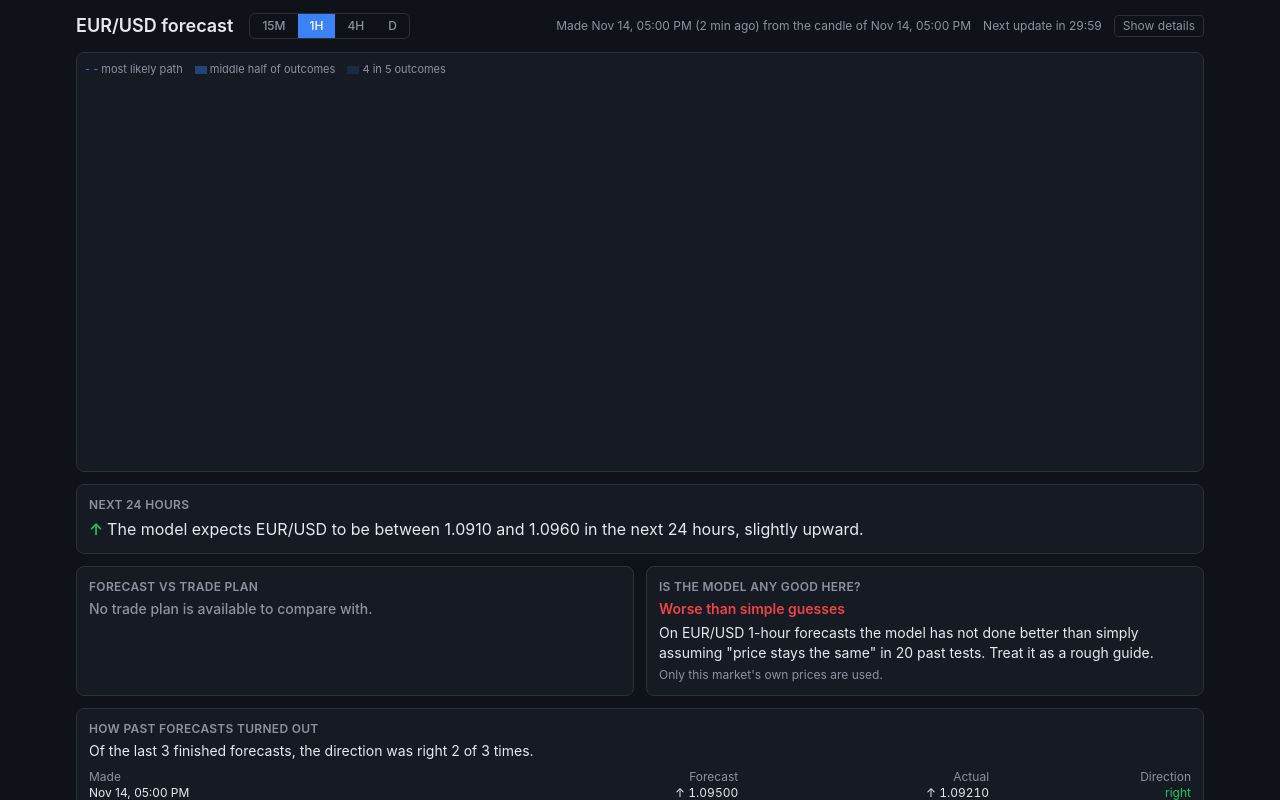
it: ForecastTab › reveals the model-vs-baselines table behind Show details
Check: the element with test id "summary" is shown, box [76,484,1204,554]
Click the button "Show details": (1159, 26) [1114,15,1204,37]
(page scrolled)
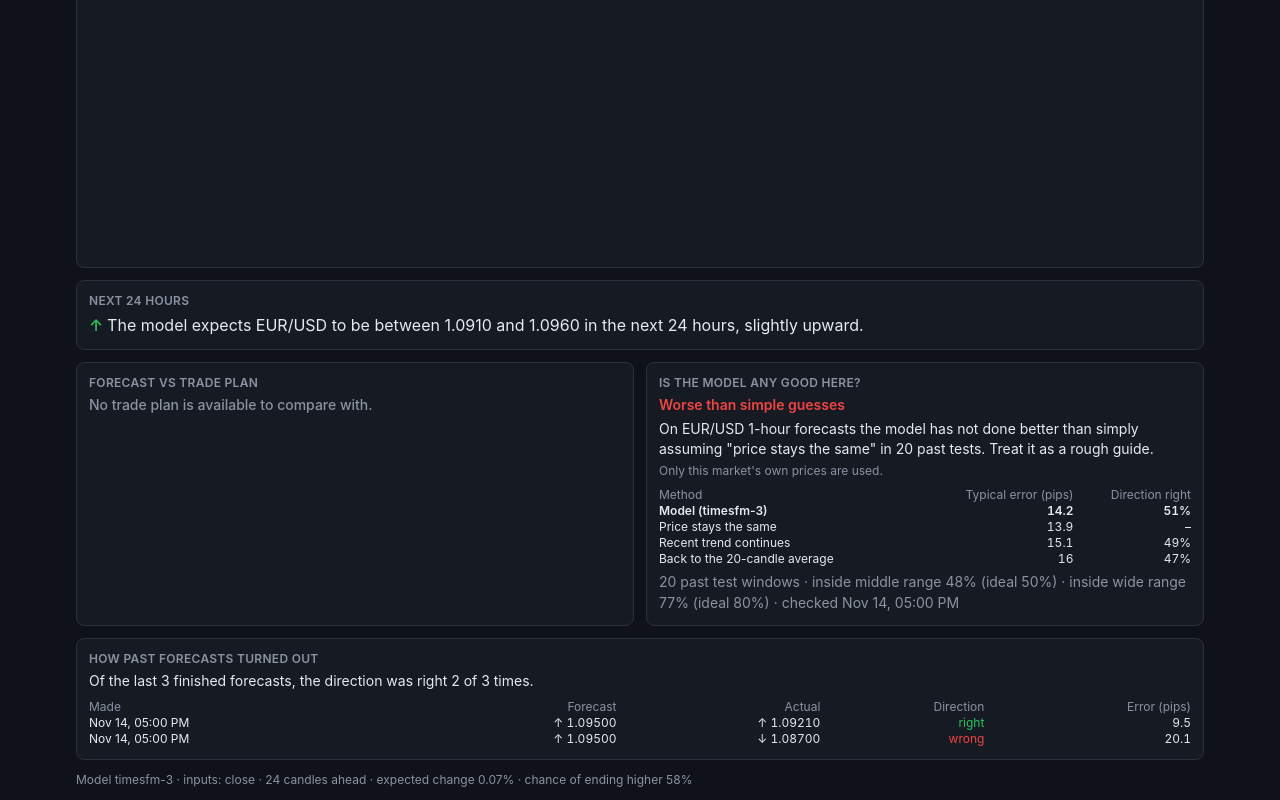
Check: the text "Price stays the same" is shown, box [659,519,915,535]
Check: the text "13.9" is shown, box [915,519,1073,535]
Check: the text with test id "tech-details" shows "timesfm-3", box [115,772,173,787]
